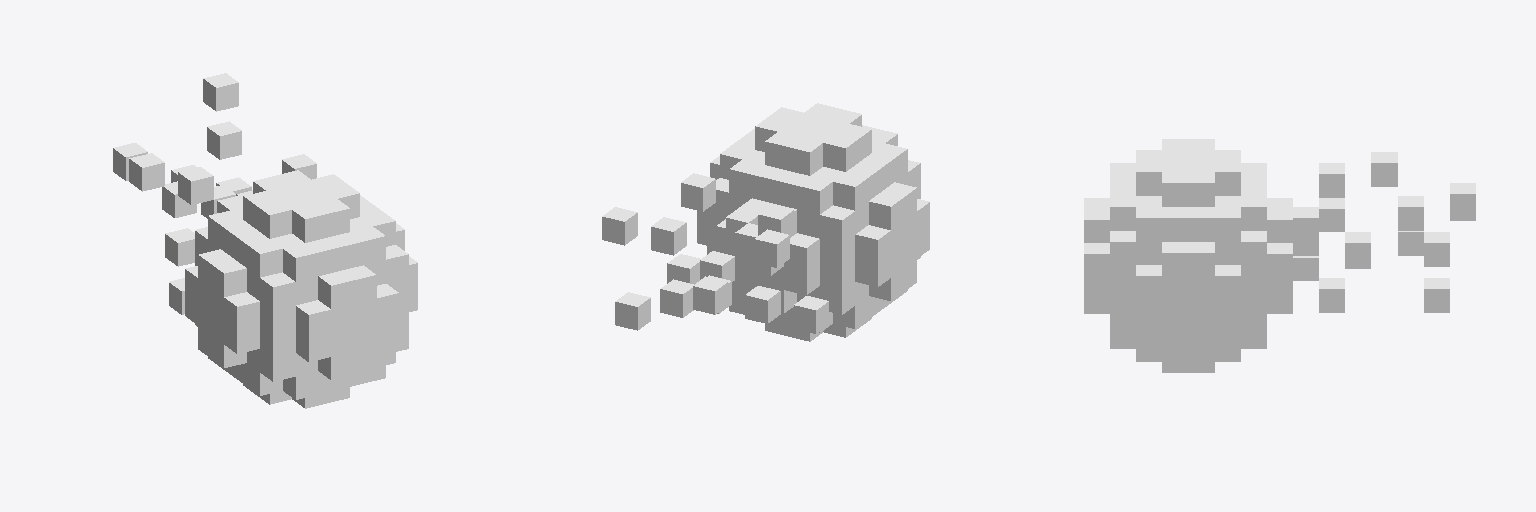
File: BolaFuego-2.obj
3 renders of one model, left to right at view 1: azimuth 30°, elevation 25°; view 2: azimuth 150°, elevation 25°; view 3: azimuth 270°, elevation 25°, orthographic.
Visible parts, largest first — view 1: object 1; view 2: object 1; view 3: object 1.
Boxes of the visible parts, <box> form: object 1: <box>113,73,417,408</box>; object 1: <box>602,103,929,341</box>; object 1: <box>1084,139,1475,372</box>.
Bounding box in the file's own units: 0.8 × 0.8 × 1.5.